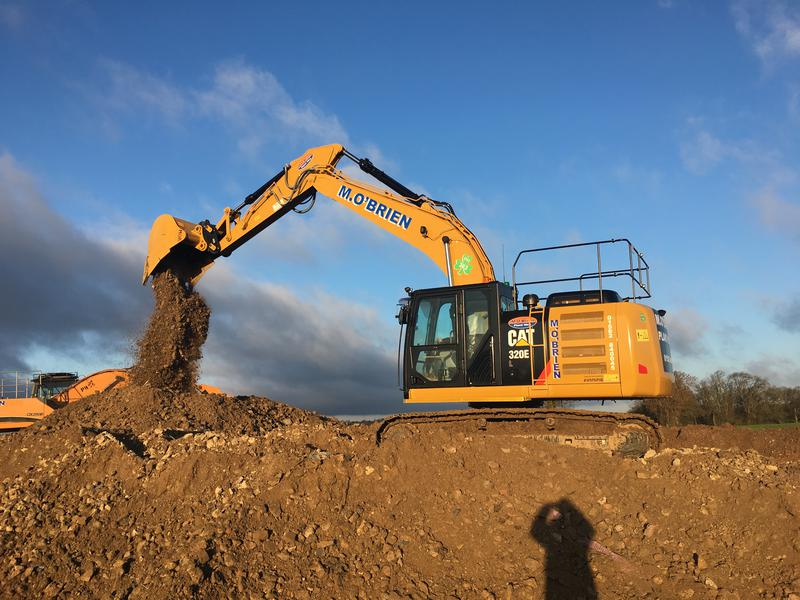shovel: (130, 138, 678, 468)
